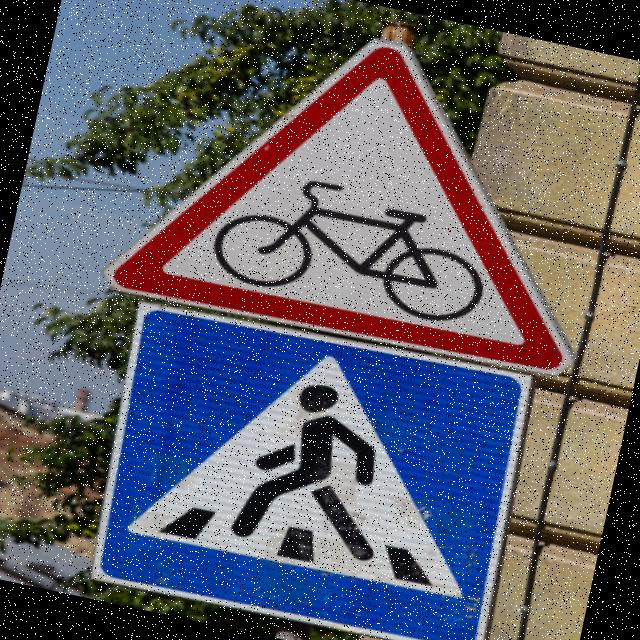crosswalk: (53, 283, 572, 640)
